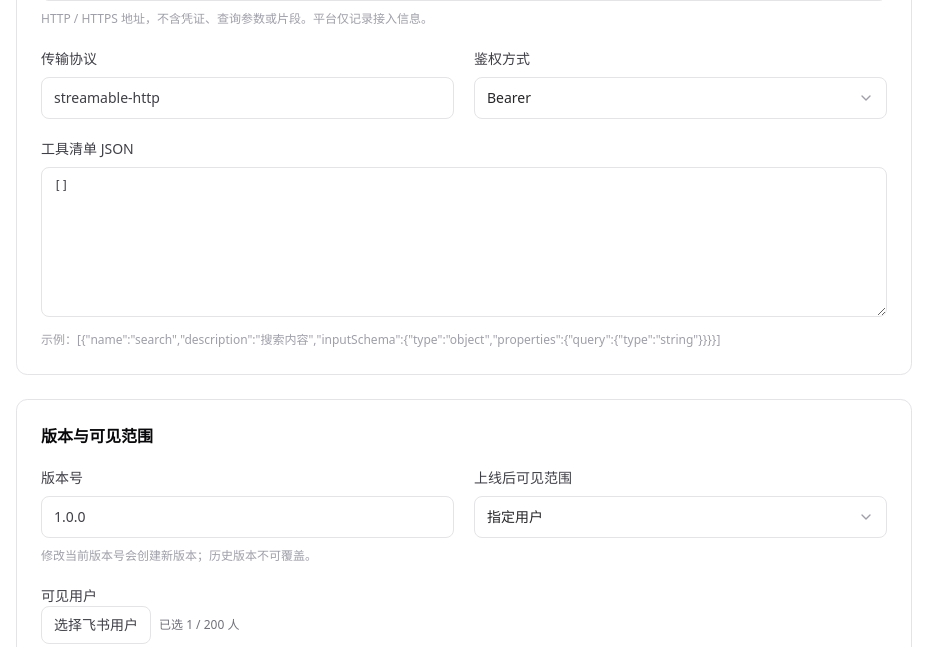
Test: rejects invalid tool schemas before submission
The width and height of the screenshot is (929, 647).
(page scrolled)
Clear the text box labelled "工具清单 JSON" at (464, 242), box [41,167,887,317]
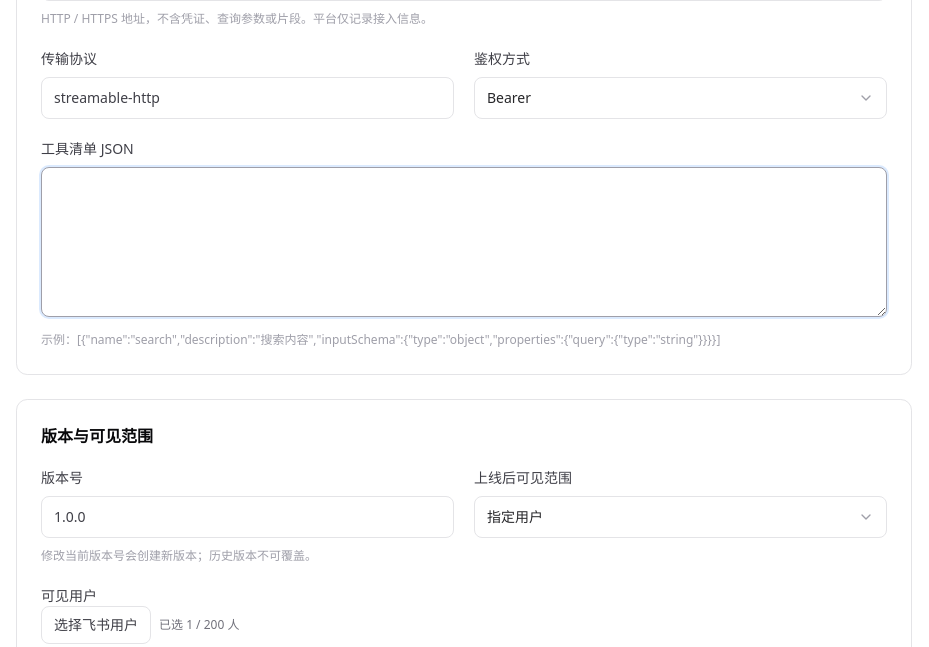
Type keys "[{\"name\":\"search\",\"description\":\"bad\",\"inputSchema\":[]} ]"
(page scrolled)
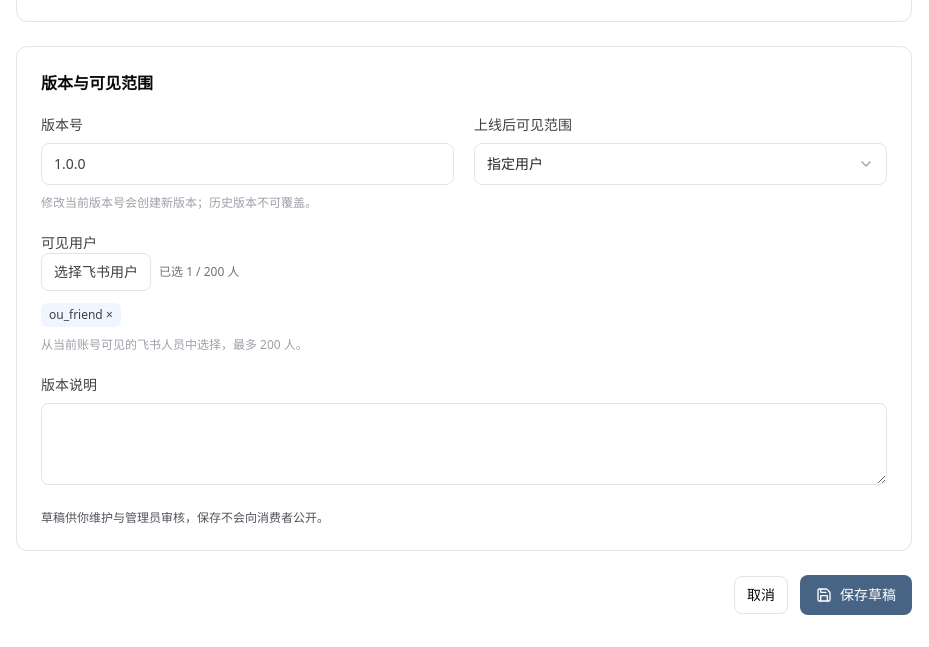
Click the button "保存草稿" at (856, 595), box [800,575,912,615]
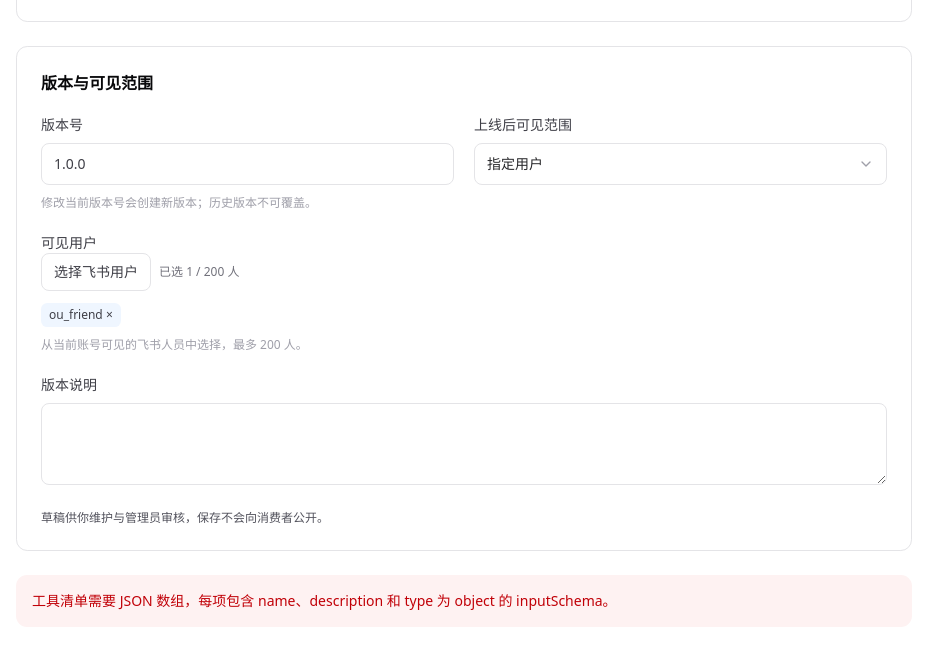
expect the message shows "工具清单需要 JSON 数组": met, box [32,591,617,610]
